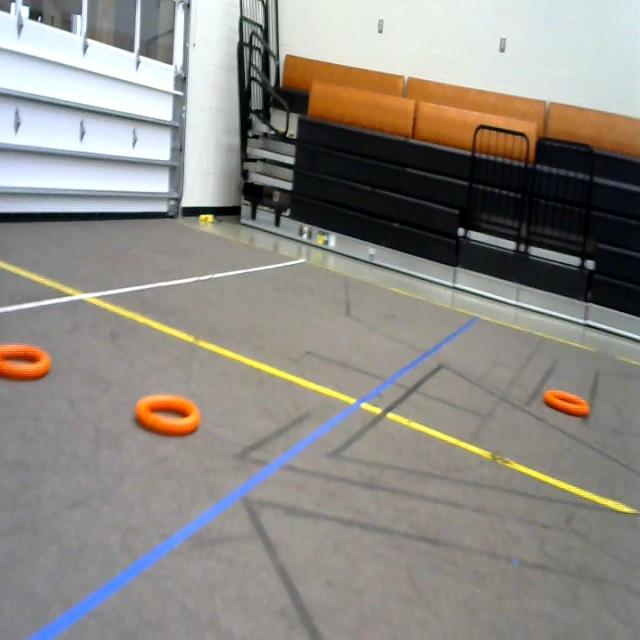note: (129, 381, 215, 448), (539, 378, 605, 441), (0, 335, 58, 398)
